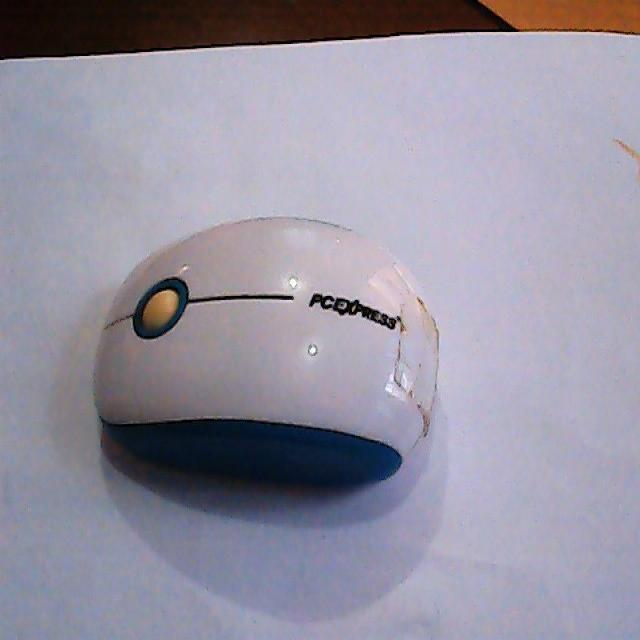Mouse: (88, 210, 442, 498)
